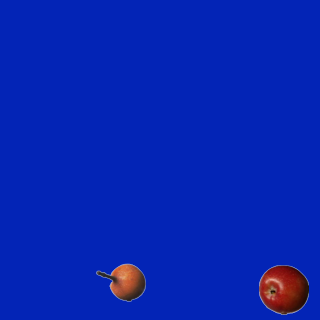Apple Braeburn: (258, 264, 308, 314)
Granadilla: (95, 257, 145, 307)
